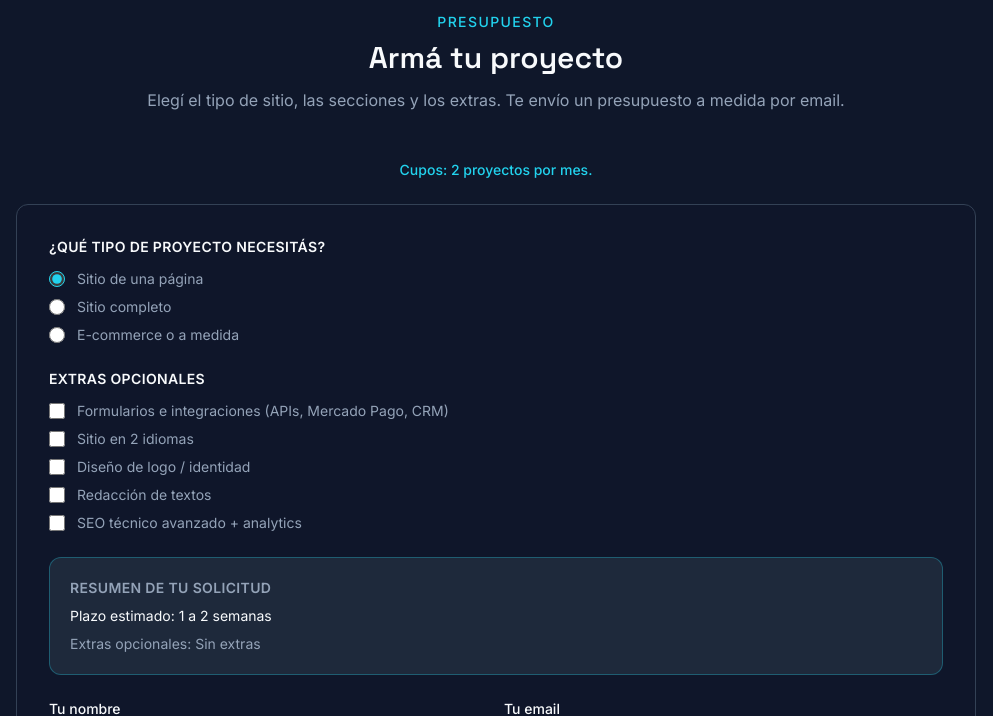
Estimator › adds a selected extra to the summary
The width and height of the screenshot is (993, 716).
What coordinates should you click on to do the following:
click the checkbox labelled "Diseño de logo / identidad"
I would click on:
 (57, 467)
Its box is [49, 459, 65, 475].
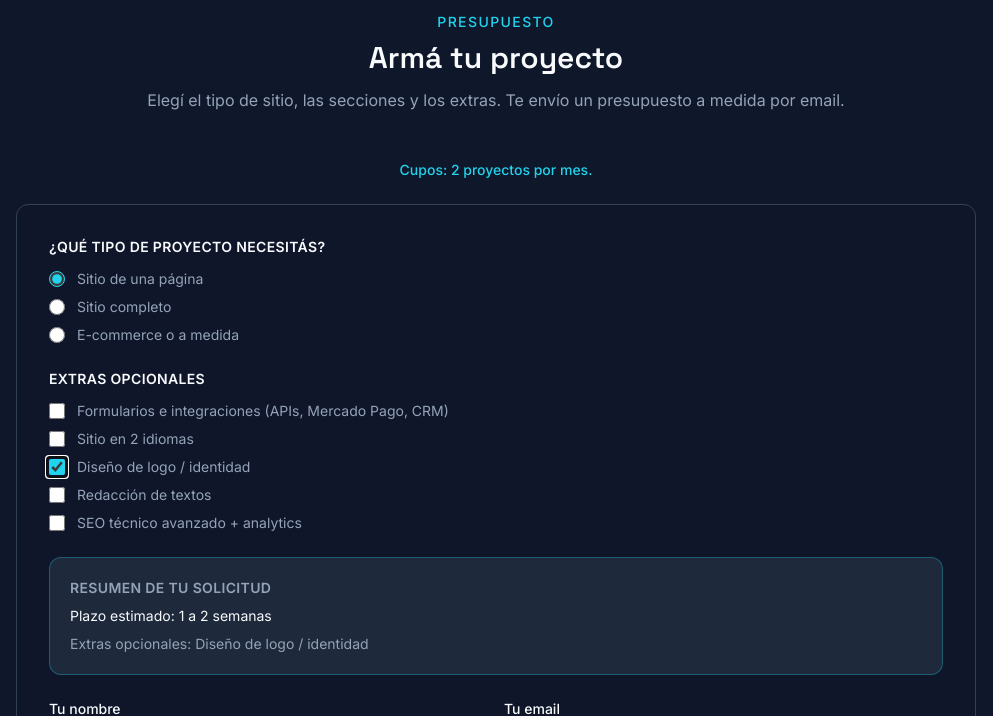
Check: the element with test id "quote-summary" shows "Diseño de logo", box [195, 635, 369, 652]
